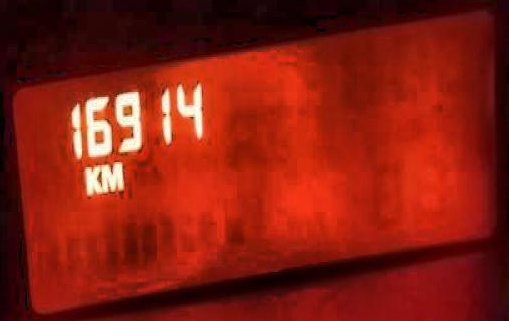1: (66, 95, 82, 163), (158, 80, 172, 151)
4: (174, 78, 204, 140)
6: (84, 90, 113, 160)
9: (114, 86, 143, 155)
X: (100, 160, 124, 191), (84, 161, 100, 195)
